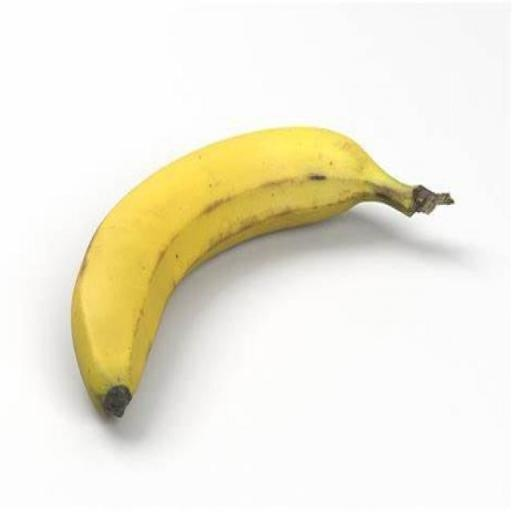fruit: (72, 128, 451, 415)
